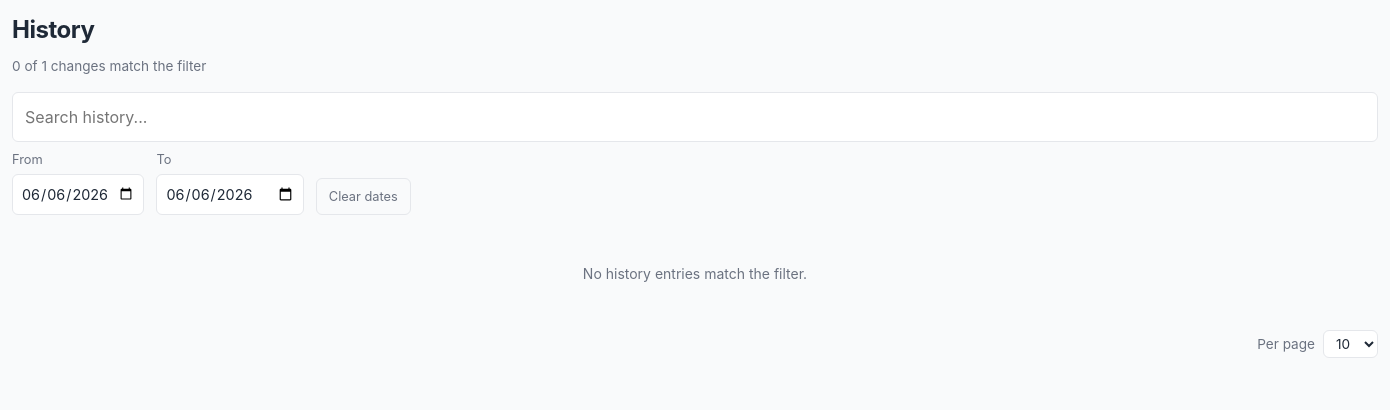
Test: HistoryView — date-range filter › flags an invalid range where To is before From
This screenshot has width=1390, height=410.
Expected: the field labelled "Search history..." is shown, [12,92,1378,142]
Type "2026-06-01" into the date field named "from date" at (78, 194), box [12,174,144,215]
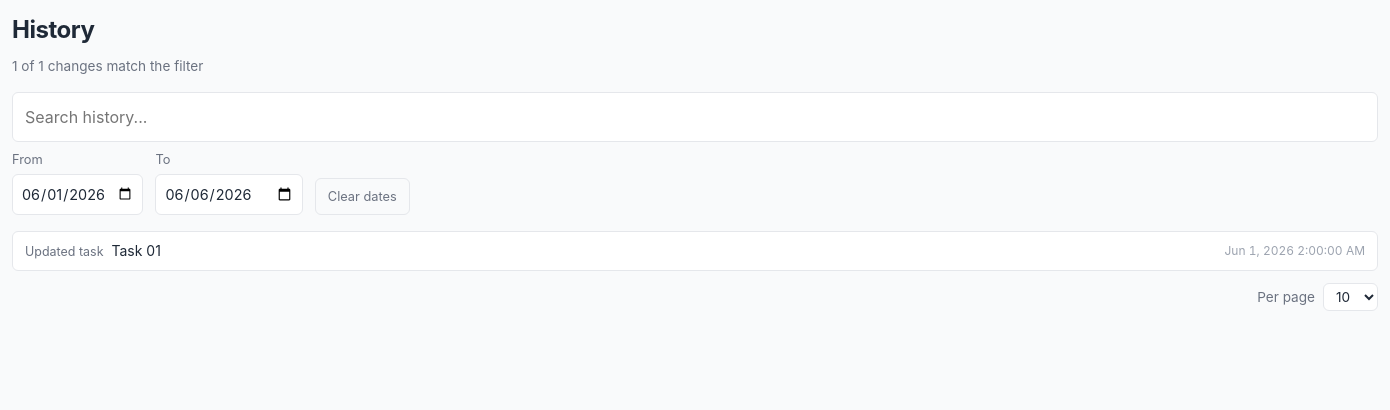
Type "2026-05-01" into the date field named "to date" at (229, 194), box [155,174,303,215]
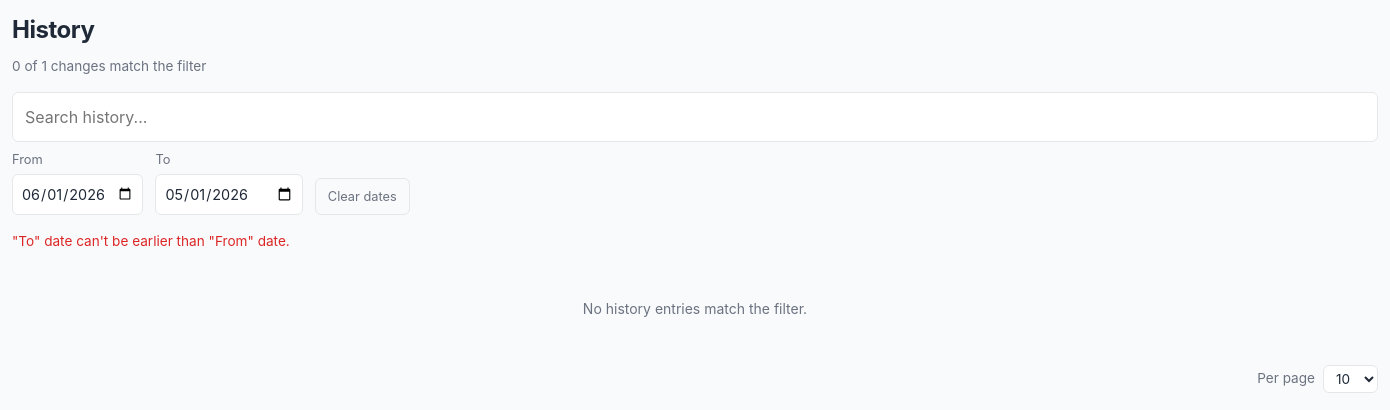
Now the message "\"To\" date can't be earlier than \"From\" date." is shown, box [12,233,290,249]
